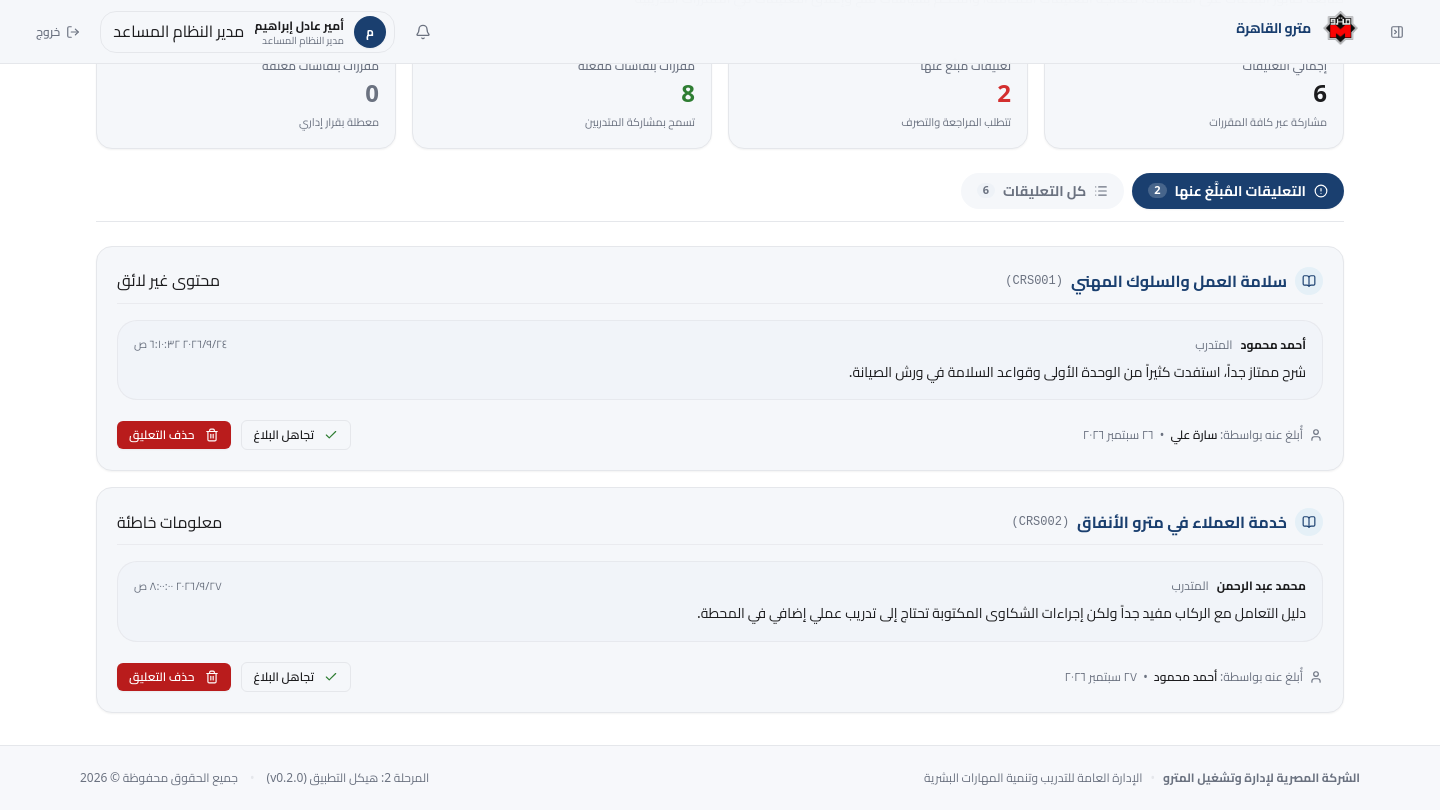
Scenario: Increment 11 — Phase 5B: Administrative Comment Moderation UI & Workflows › 4. Dual-Control Approval Governance & Assistant Administrator › allows Assistant Administrator to ignore reports directly without approval
The image size is (1440, 810).
(page scrolled)
Expected: the element with test id "reported-comments-queue" is shown, [96,246,1344,713]
Click the button with test id "ignore-report-btn-CMT004" at coordinates (296, 677), box [240,662,351,692]
(page scrolled)
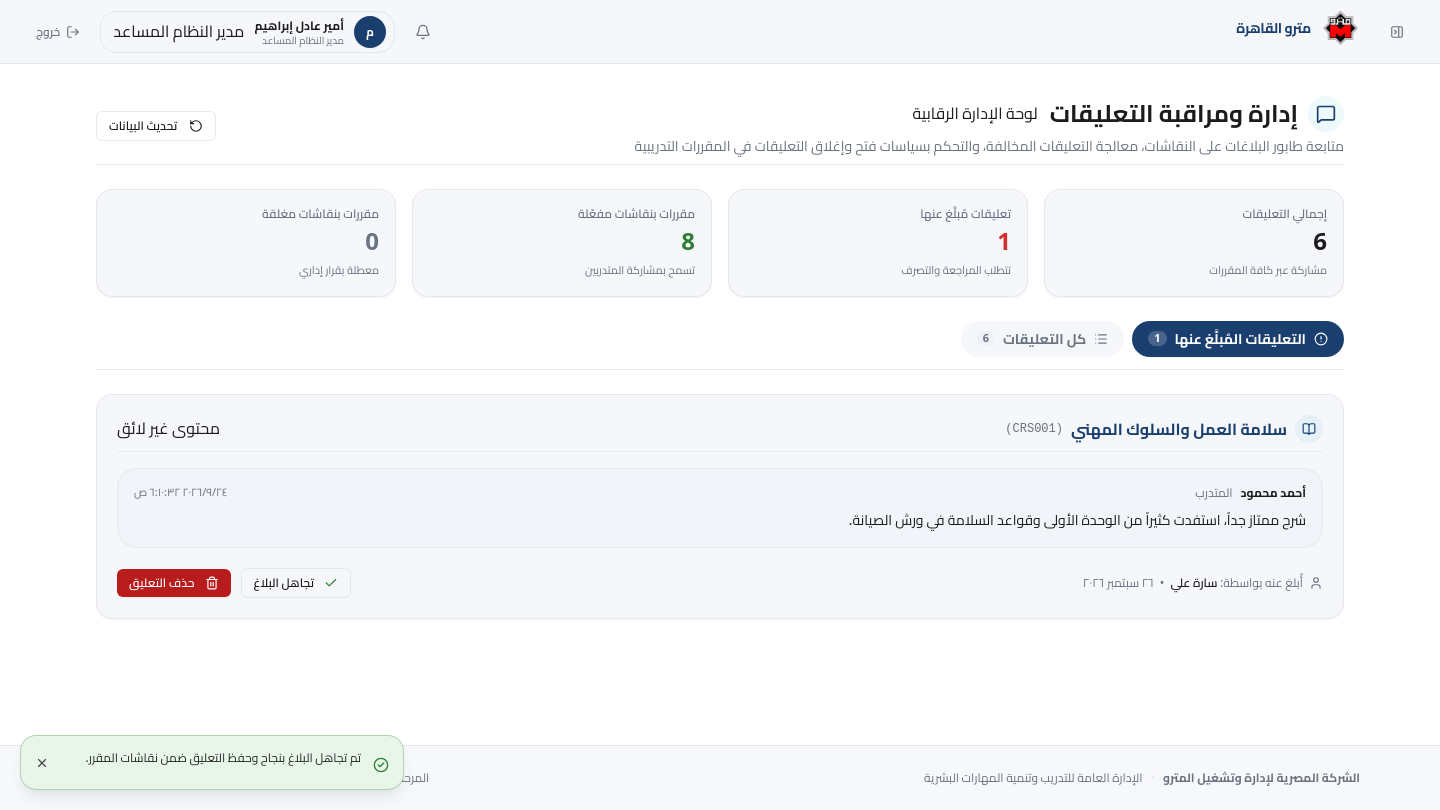
Expected: the element with test id "reported-comment-card-CMT004" is gone
